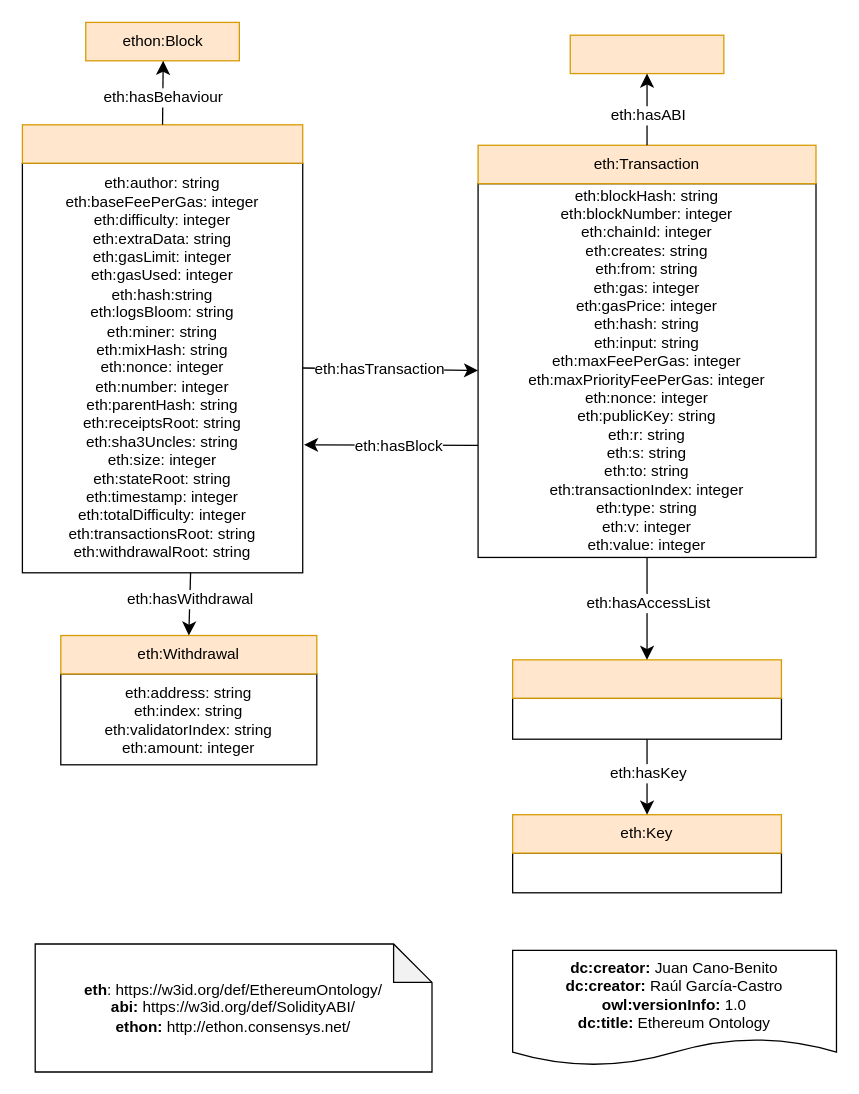
Some shapes in this 859 by 1094 pixel diagram are drawn without their labels. Each missing label, with the centre of its shape:
"abi:ABI" belongs at point (646, 54).
"eth:AccessList" belongs at point (646, 678).
"eth:address:string" belongs at point (646, 718).
"eth:Block" belongs at point (162, 143).
"eth:key:string" belongs at point (646, 872).
